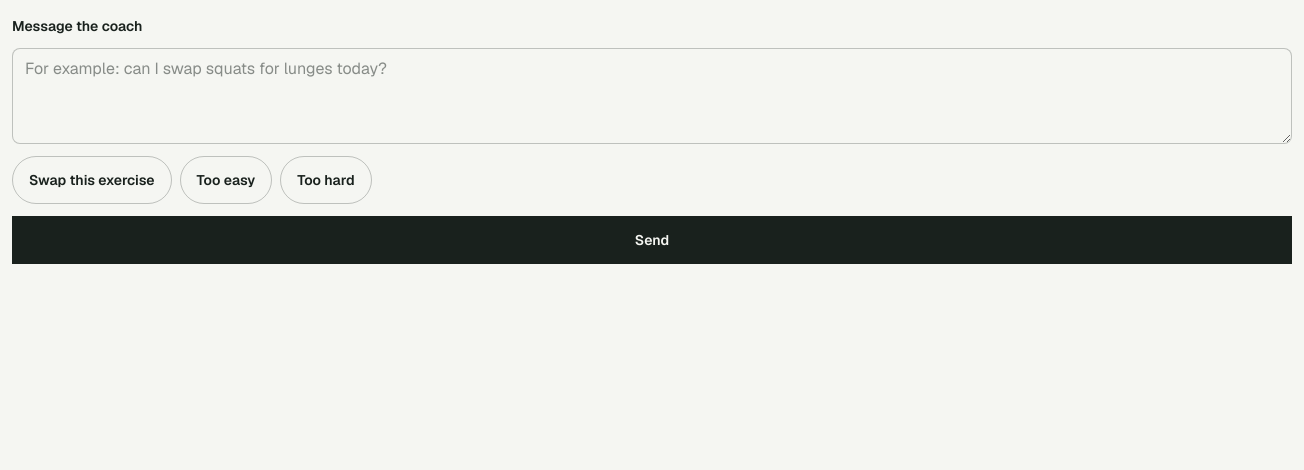
Test: coach form, saved example › shows the stored reply under the saved-example label, with Send again, and does not refresh
In the text box labelled "Message the coach": (652, 96) [12,48,1292,144], type "Swap this exercise"
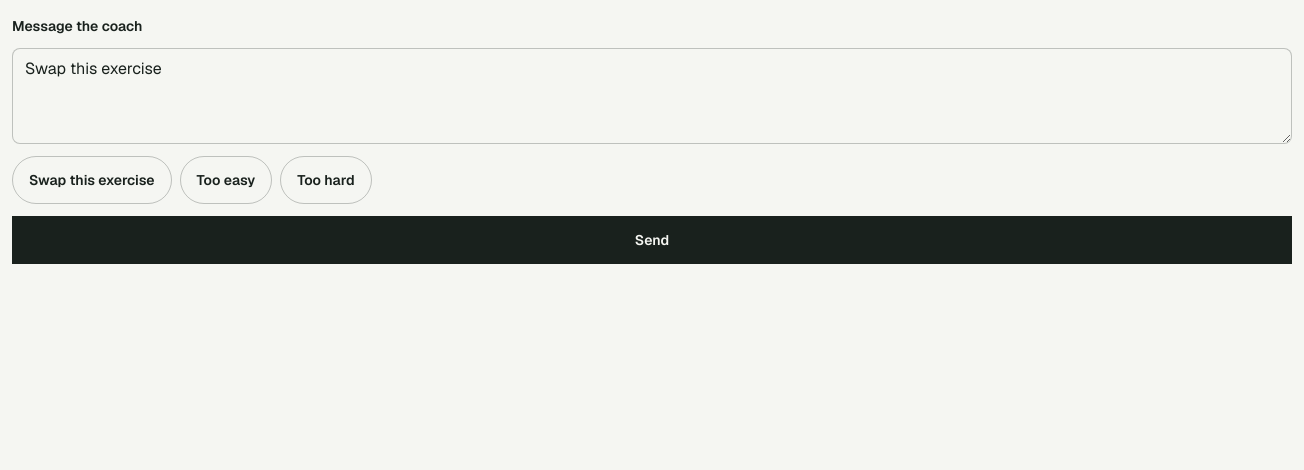
Submit the form "Send", box [12,16,1292,264]
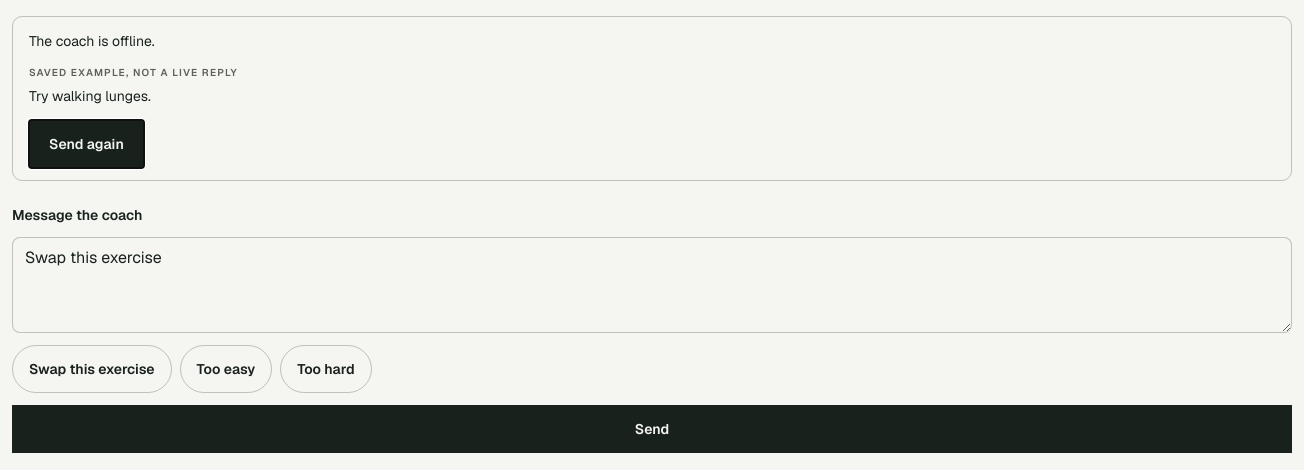
Check: the message shows "Saved example, not a live reply", box [29,66,238,79]
Check: the message shows "Try walking lunges.", box [29,87,151,105]
Check: the message shows "The coach is offline.", box [29,32,155,50]
